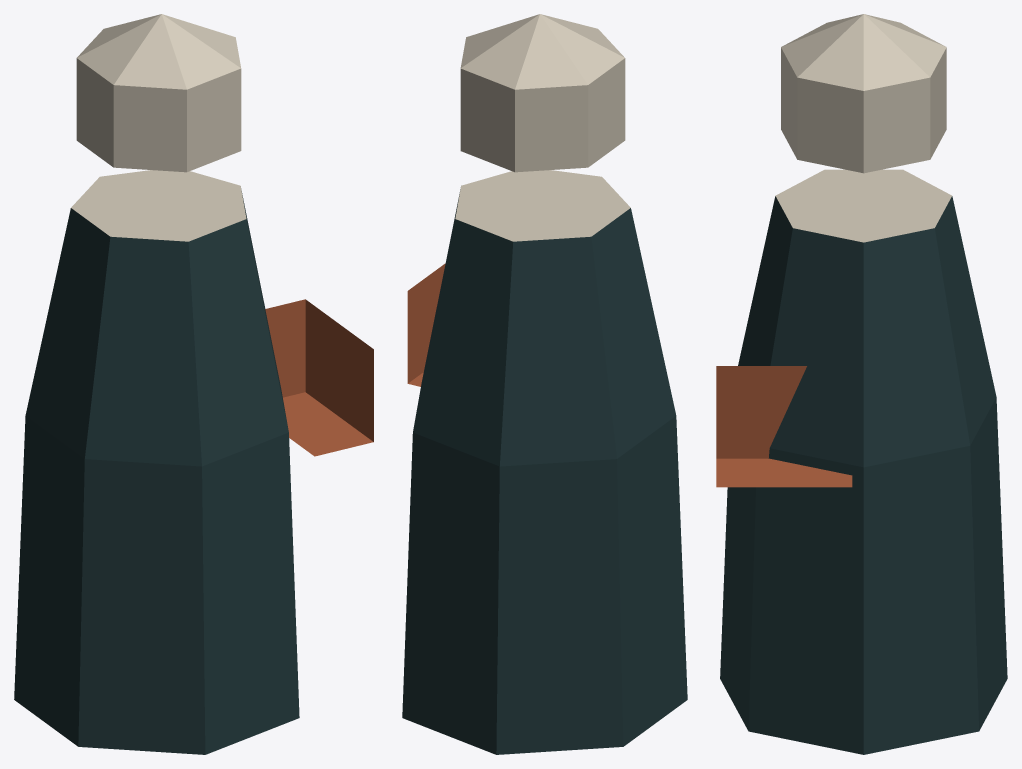
File: scholar_robed.glb
The picture shows the model from 3 angles, left to right: view 1: azimuth 30°, elevation 25°; view 2: azimuth 150°, elevation 25°; view 3: azimuth 270°, elevation 25°; orthographic projection.
Visible parts, largest first — view 1: scholar_robed; view 2: scholar_robed; view 3: scholar_robed.
Part boxes in pixels (x1=…): scholar_robed: x1=14, y1=14, x2=373, y2=754; scholar_robed: x1=402, y1=14, x2=687, y2=754; scholar_robed: x1=716, y1=14, x2=1007, y2=754.
Bounding box in the file's own units: 0.5142 × 1.32 × 0.5134.
